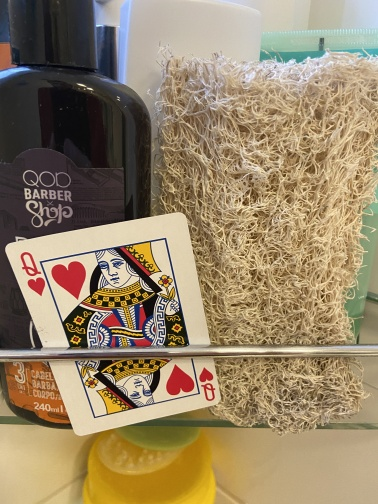queen: (3, 210, 224, 439)
